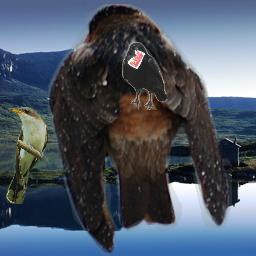Crow: (122, 42, 168, 110)
Cuckoo: (6, 107, 48, 204)
Swallow: (48, 4, 232, 256)
